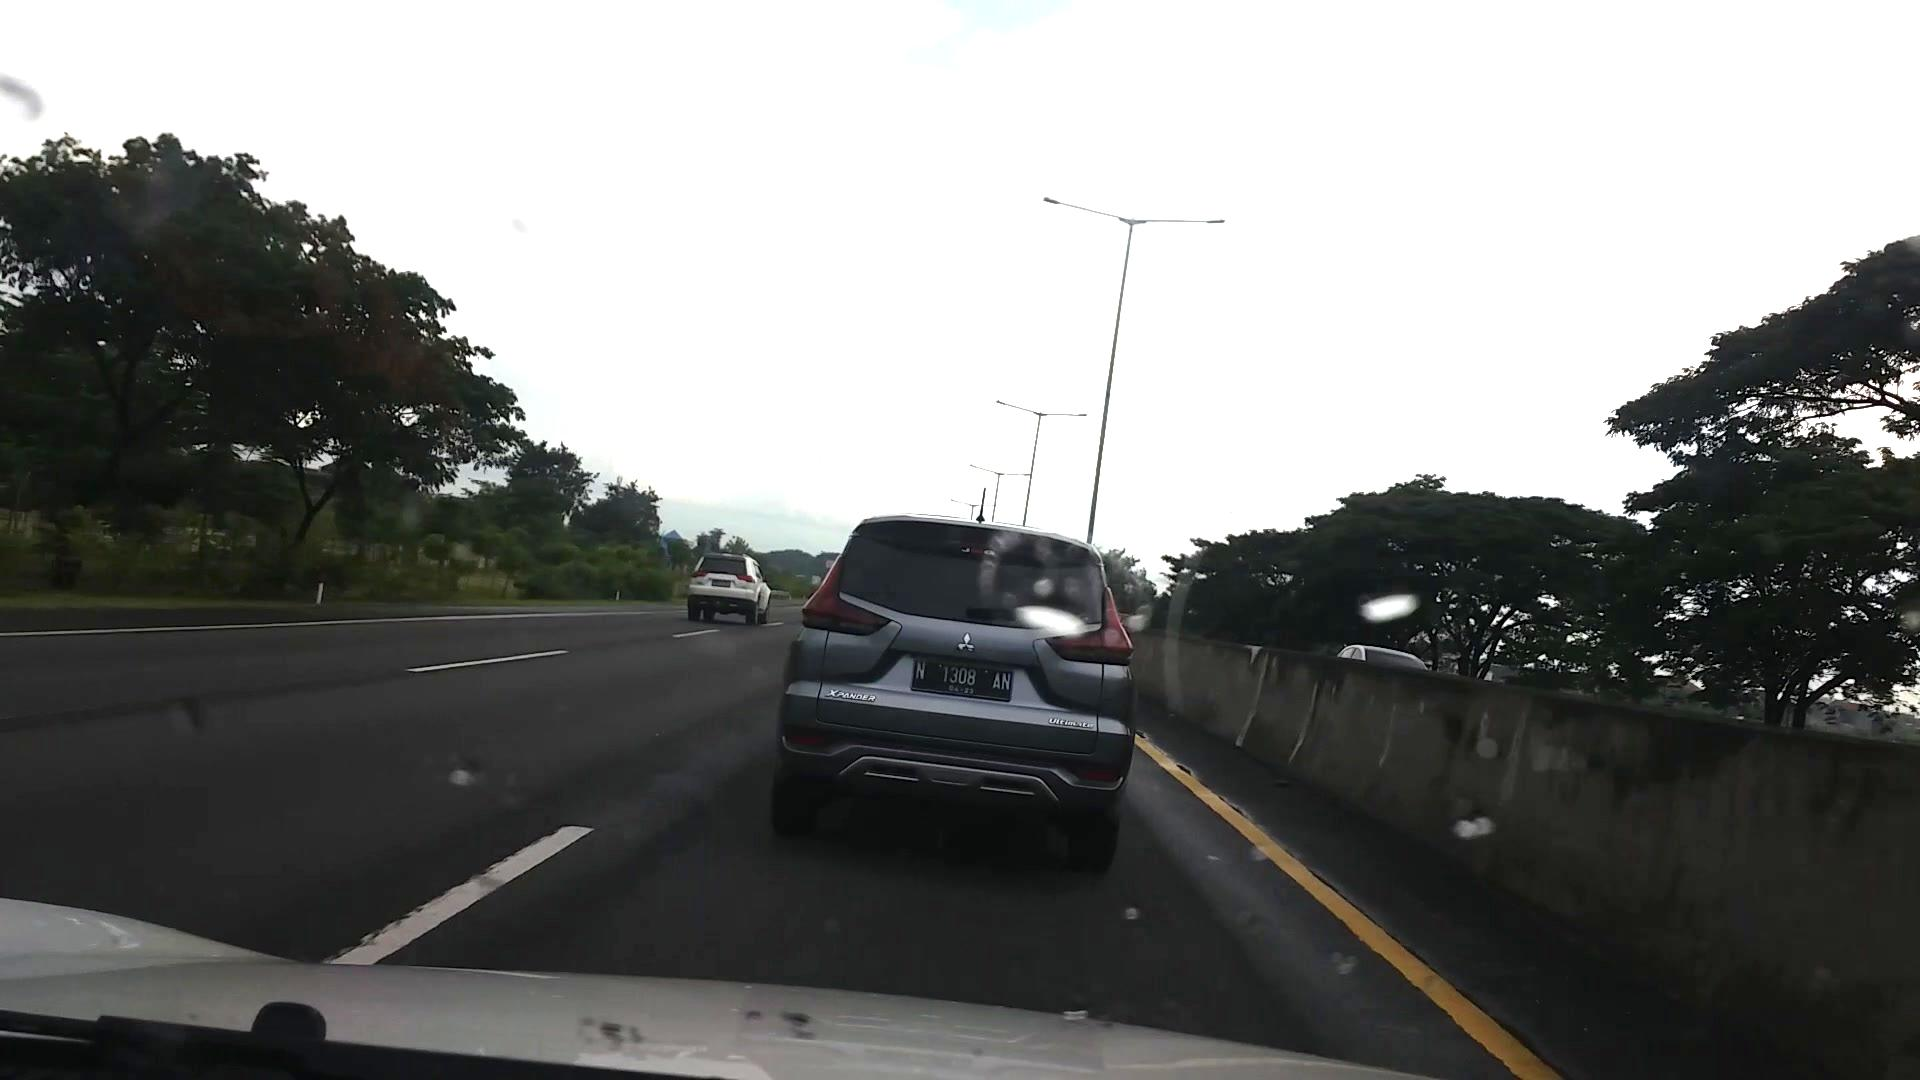plate_positive: (911, 658, 1011, 700)
